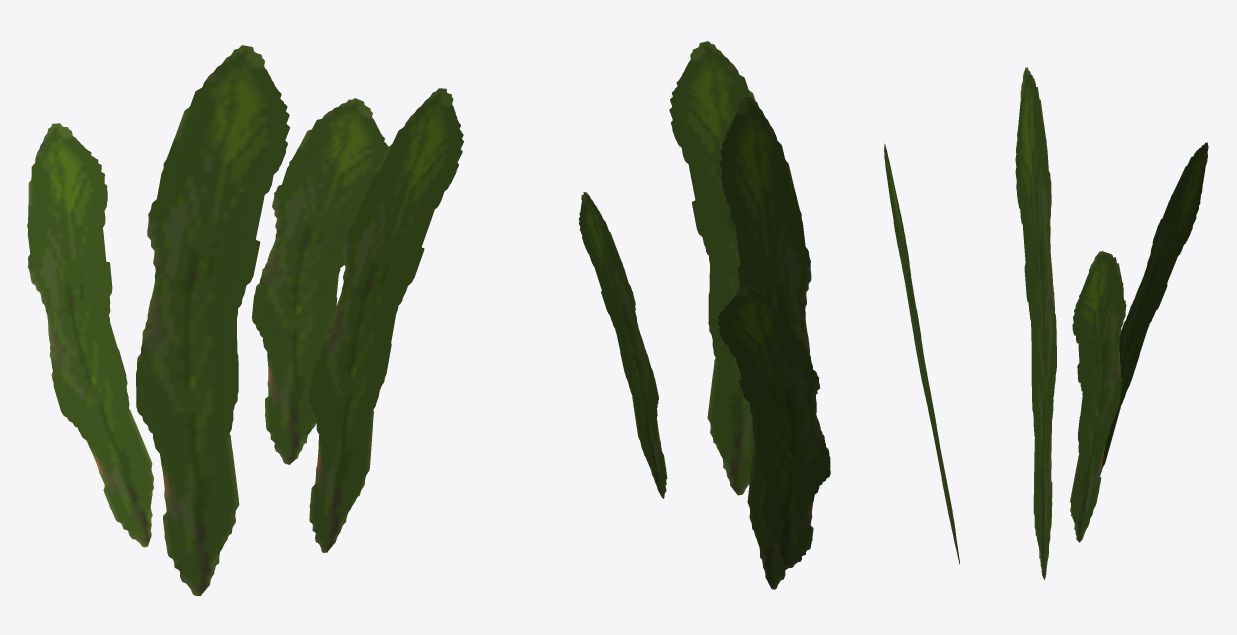
The model's file is cao1_2.fbx.
3 views of the same model, side by side, from view 1: azimuth 30°, elevation 25°; view 2: azimuth 150°, elevation 25°; view 3: azimuth 270°, elevation 25° (orthographic). The views are drawn at different scales.
Parts seen in each view (by area): view 1: cao1_2; view 2: cao1_2; view 3: cao1_2.
Boxes of the visible parts, x1,y1,x2,y2 form: cao1_2: (27,45,463,595); cao1_2: (578,41,830,589); cao1_2: (884,67,1208,579).
Bounding box in the file's own units: 262 × 404 × 220.
